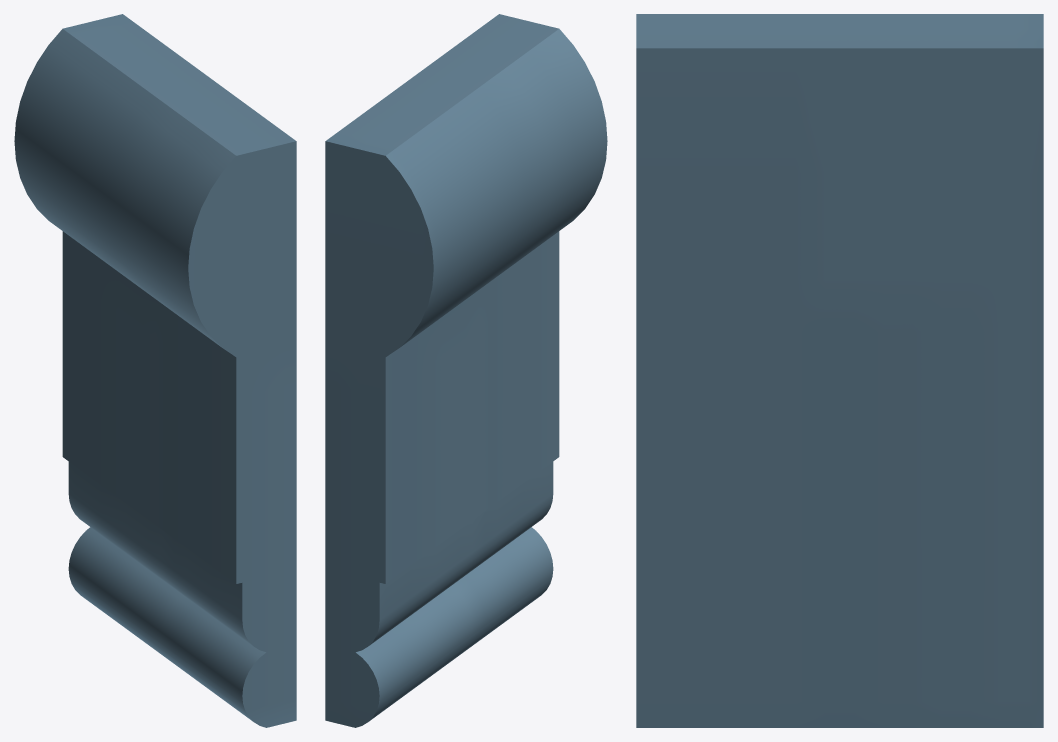
Rendered from original-7.obj.
3 views of the same model, side by side, from view 1: azimuth 30°, elevation 25°; view 2: azimuth 150°, elevation 25°; view 3: azimuth 270°, elevation 25° (orthographic). The views are drawn at different scales.
Visible parts, largest first — view 1: Moulding-92.50.18_3/Moulding-92.50.18/mesh1/mesh1-geometry#mesh1; view 2: Moulding-92.50.18_3/Moulding-92.50.18/mesh1/mesh1-geometry#mesh1; view 3: Moulding-92.50.18_3/Moulding-92.50.18/mesh1/mesh1-geometry#mesh1.
Boxes of the visible parts, <box> form: Moulding-92.50.18_3/Moulding-92.50.18/mesh1/mesh1-geometry#mesh1: <box>14,14,296,727</box>; Moulding-92.50.18_3/Moulding-92.50.18/mesh1/mesh1-geometry#mesh1: <box>325,14,607,727</box>; Moulding-92.50.18_3/Moulding-92.50.18/mesh1/mesh1-geometry#mesh1: <box>636,14,1043,727</box>.
Bounding box in the file's own units: 0.0149 × 0.076 × 0.0413.
